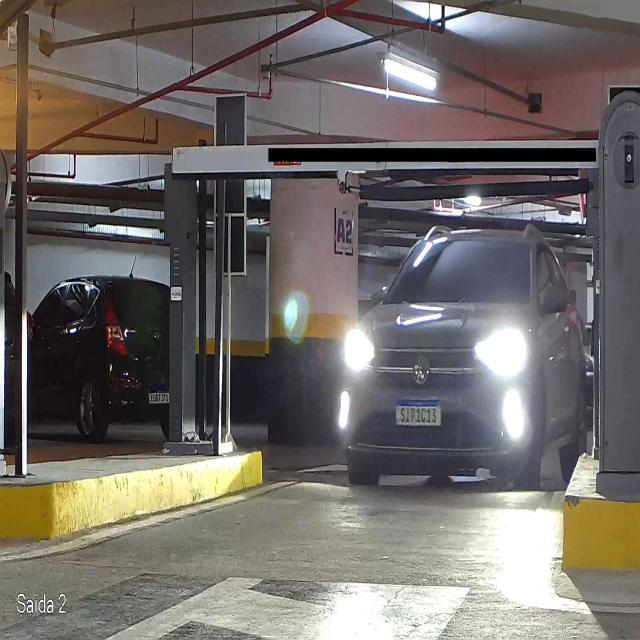mercosul_plate: (394, 399, 444, 428)
